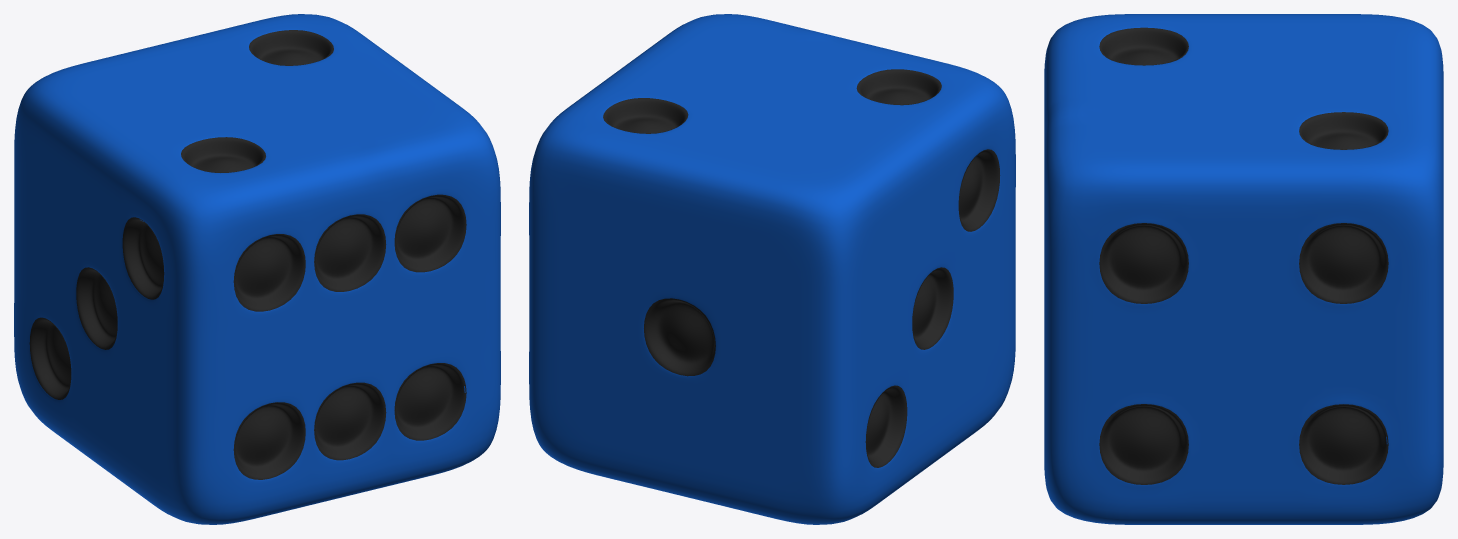
File: Dice.fbx
3 views of the same model, side by side, from view 1: azimuth 30°, elevation 25°; view 2: azimuth 150°, elevation 25°; view 3: azimuth 270°, elevation 25° (orthographic). The views are drawn at different scales.
Visible parts, largest first — view 1: Cube; view 2: Cube; view 3: Cube.
Part boxes in pixels (x1,y1,x2,y2): Cube: [14, 14, 500, 524]; Cube: [529, 14, 1015, 524]; Cube: [1044, 14, 1443, 524].
Size of the model in its own units: 100 by 100 by 100.
